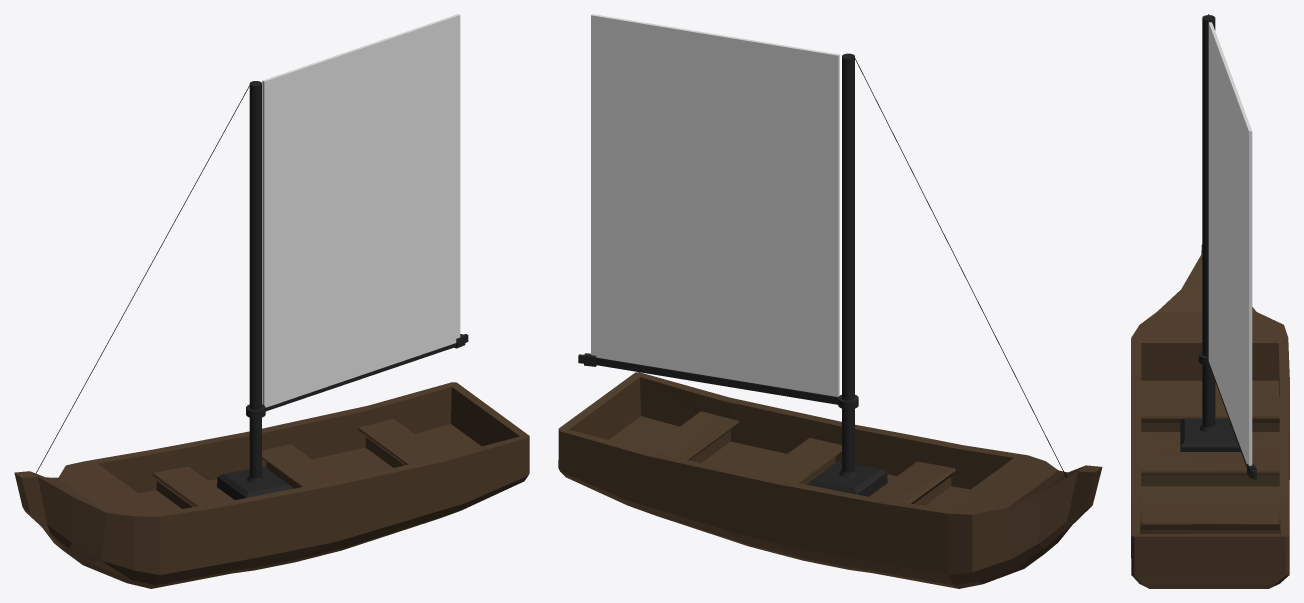
The model's file is wip_boat_optimized_with_2sail_7.fbx.
3 views of the same model, side by side, from view 1: azimuth 30°, elevation 25°; view 2: azimuth 150°, elevation 25°; view 3: azimuth 270°, elevation 25° (orthographic). The views are drawn at different scales.
Visible parts, largest first — view 1: Plane, Boat, Mast; view 2: Plane, Boat, Mast; view 3: Boat, Plane, Mast.
Boxes of the visible parts, left/top/right/bottom form: Plane: left=262, top=14, right=460, bottom=407; Boat: left=14, top=382, right=529, bottom=588; Mast: left=246, top=81, right=468, bottom=483; Plane: left=591, top=14, right=839, bottom=396; Boat: left=558, top=372, right=1102, bottom=588; Mast: left=578, top=53, right=858, bottom=477; Boat: left=1131, top=244, right=1289, bottom=588; Plane: left=1208, top=22, right=1252, bottom=465; Mast: left=1198, top=15, right=1256, bottom=479.
Size of the model in its own units: 1741 by 1614 by 485.
